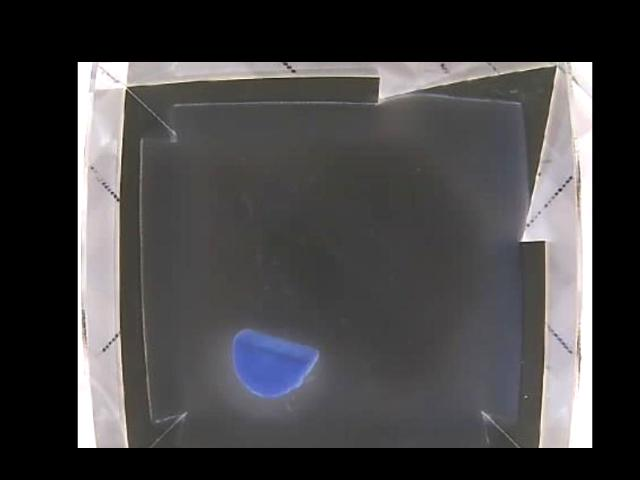Potato: (232, 328, 319, 398)
